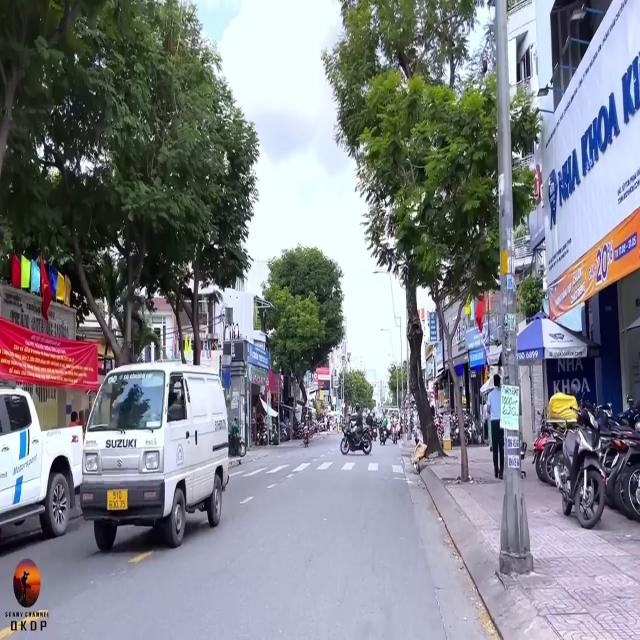bien_vang: (106, 486, 127, 514)
